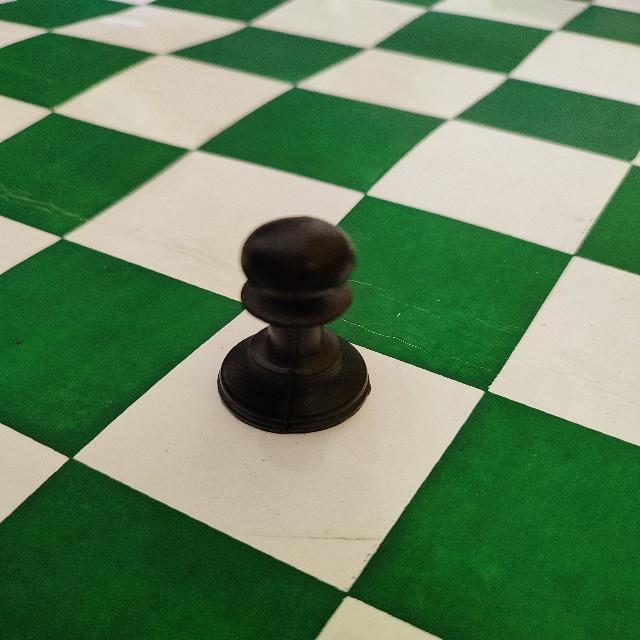Pawn: (215, 214, 372, 436)
